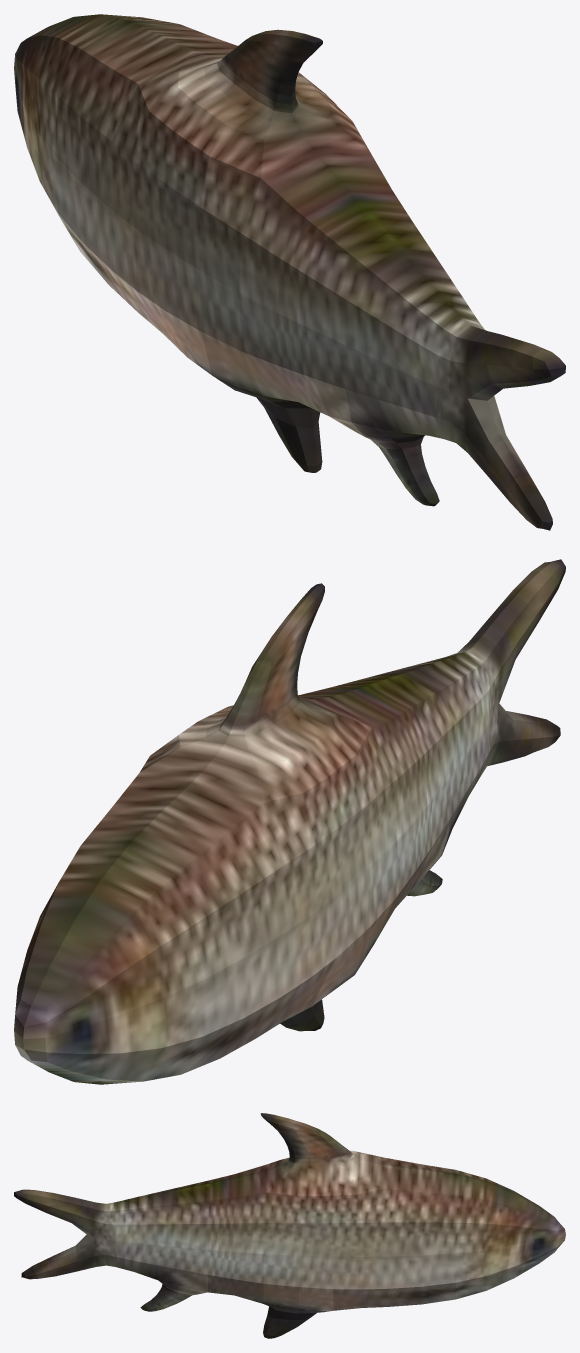
Rendered from fish_1.glb.
3 renders of one model, top to bottom at view 1: azimuth 30°, elevation 25°; view 2: azimuth 150°, elevation 25°; view 3: azimuth 270°, elevation 25°, orthographic. The views are drawn at different scales.
Parts seen in each view (by area): view 1: Cube; view 2: Cube; view 3: Cube.
Part boxes in pixels (left/top/right/bottom): Cube: left=14, top=14, right=565, bottom=530; Cube: left=14, top=559, right=565, bottom=1084; Cube: left=14, top=1113, right=565, bottom=1338.
Size of the model in its own units: 1.36 by 3.21 by 7.14.
1 material, 1 textured.
